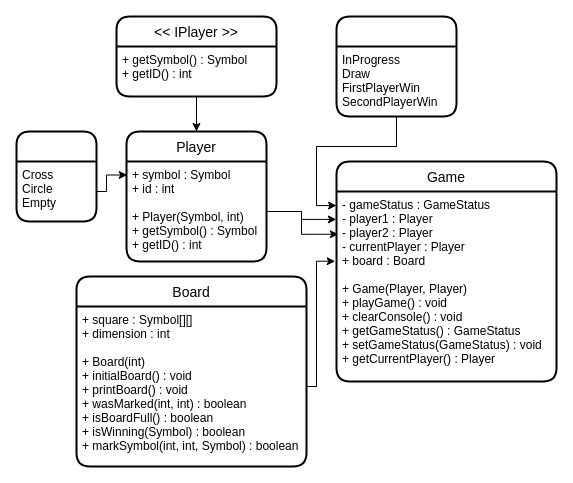
Some shapes in this 573 by 483 pixel diagram are drawn without their labels. Here are the shapes that lost their labels. From the top down, the box of each, then its label:
(335, 15, 457, 117): Game Status
(15, 130, 97, 222): Symbol
